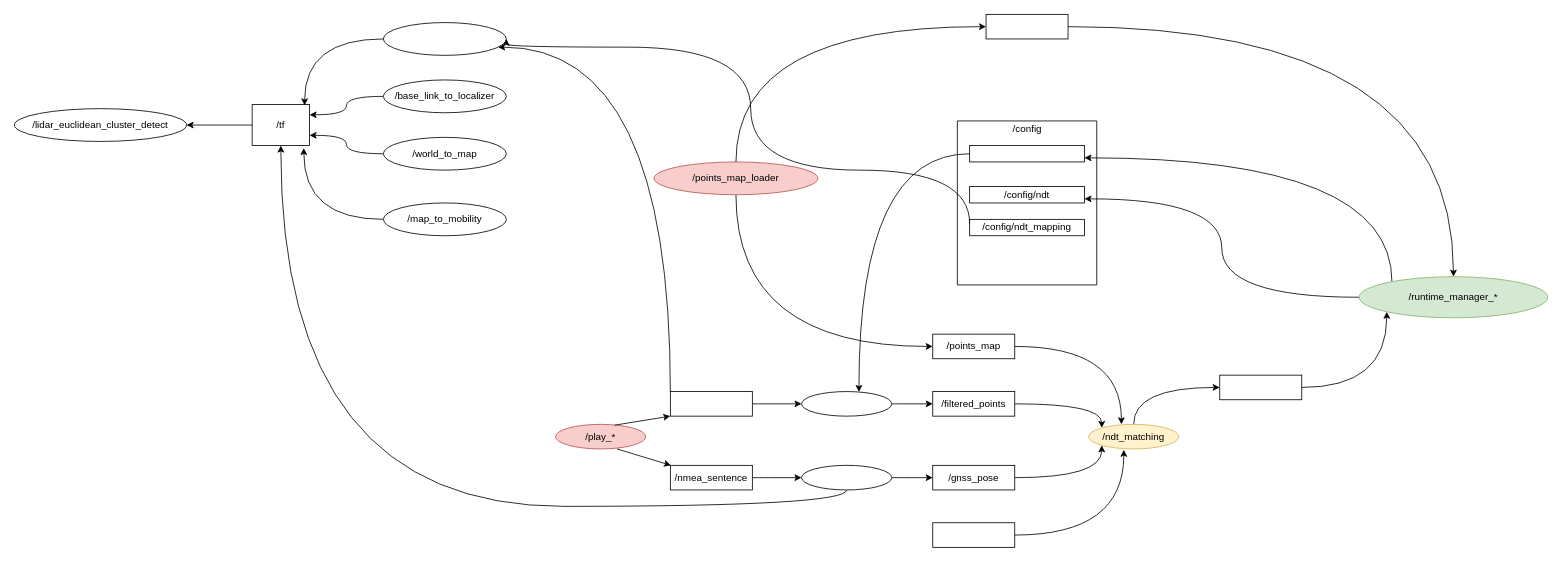
This 1562x562 diagram has some shape labels left out. The box of each missing label's shape, as (x1, y1, x2, y2) in pixels:
/config/voxel_gird_filter: (969, 145, 1084, 162)
/initialpose: (932, 522, 1015, 547)
/ndt_mapping: (383, 22, 506, 55)
/ndt_stat: (1219, 374, 1302, 400)
/nmea2tfpose: (801, 465, 892, 490)
/pmap_stat: (985, 14, 1068, 39)
/points_raw: (670, 391, 752, 416)
/voxel_gird_filter: (801, 391, 892, 416)
